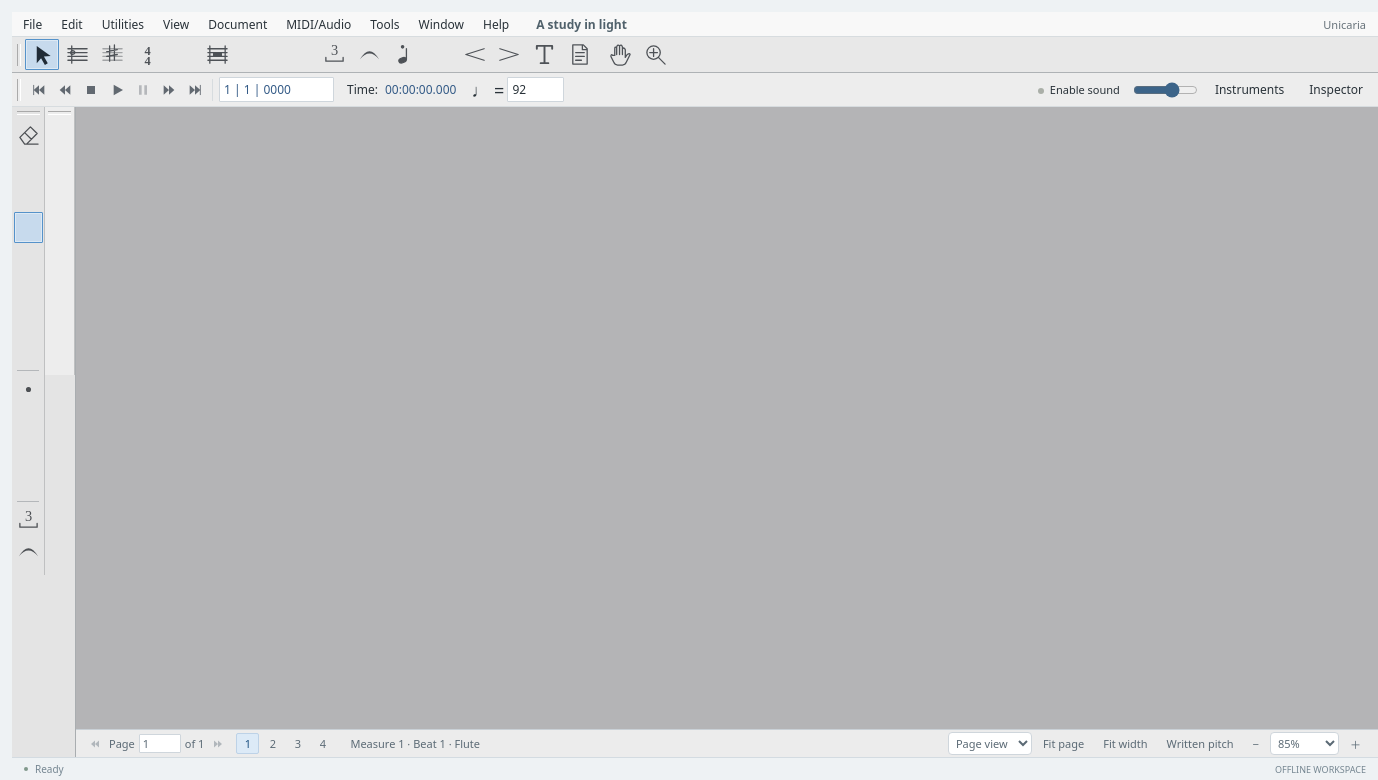
Test case: familiar score editing gestures › Speedy Entry chooses pitch before entering a duration
Click the button named "Speedy Entry".
click(293, 54)  # box [276,39,310,70]
(page scrolled)
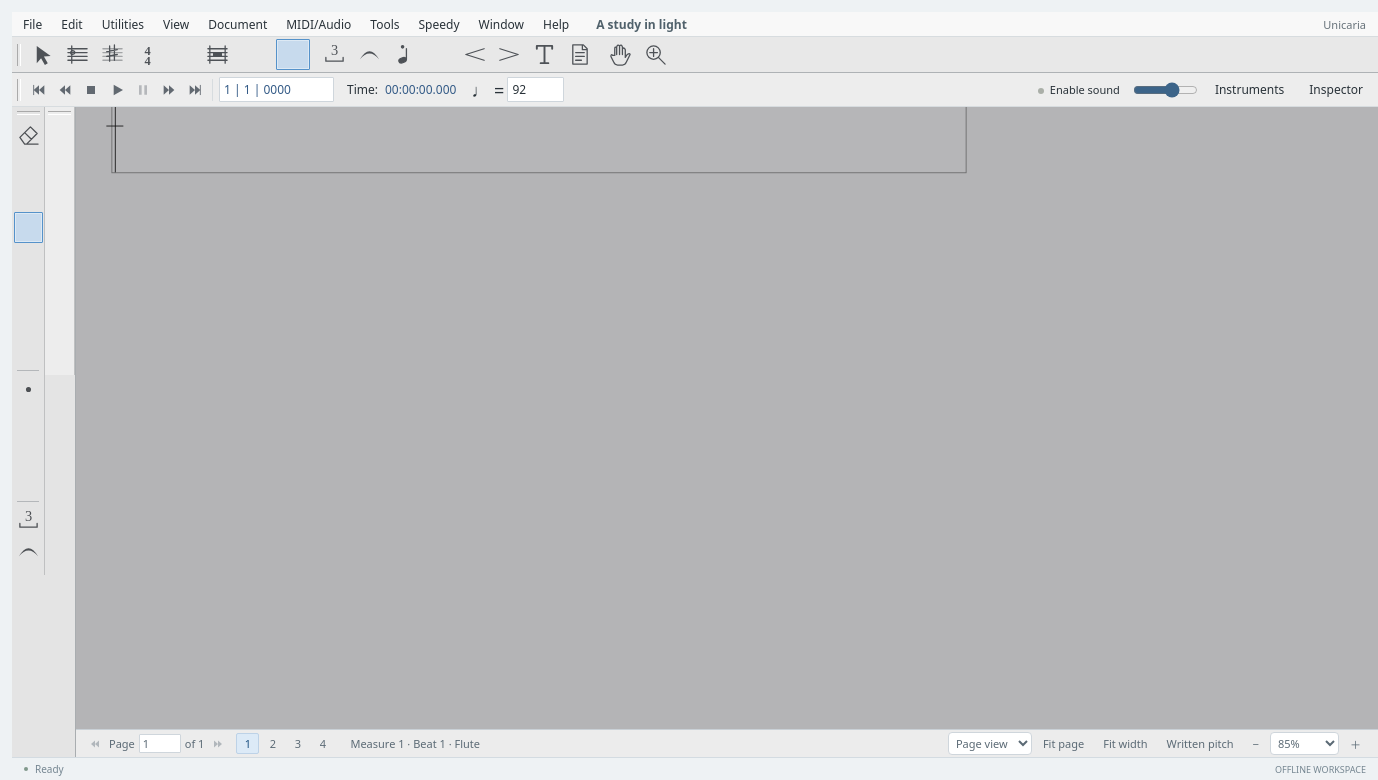
Press the mouse on the element showing "V1" at (539, 126), box [111,78,966,173]
Press ArrowUp
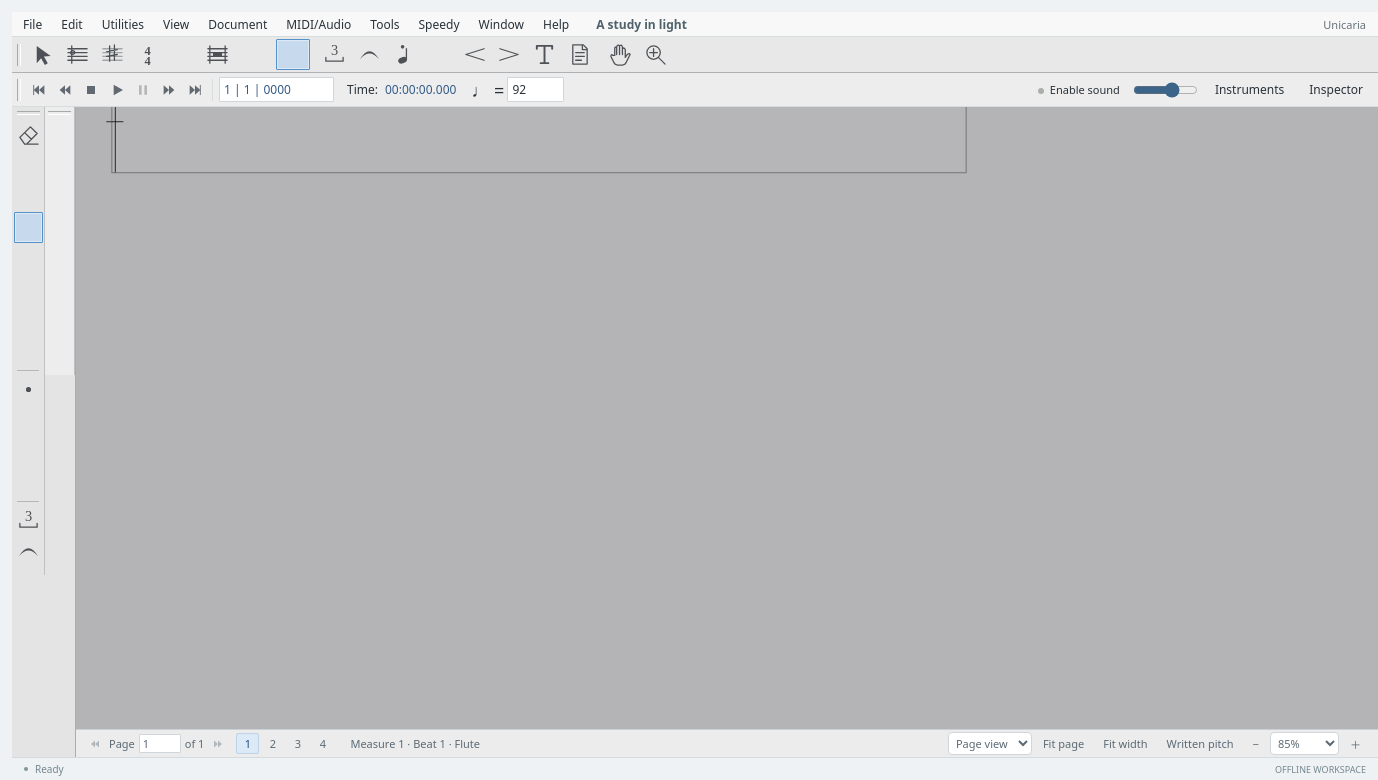
Press Digit5
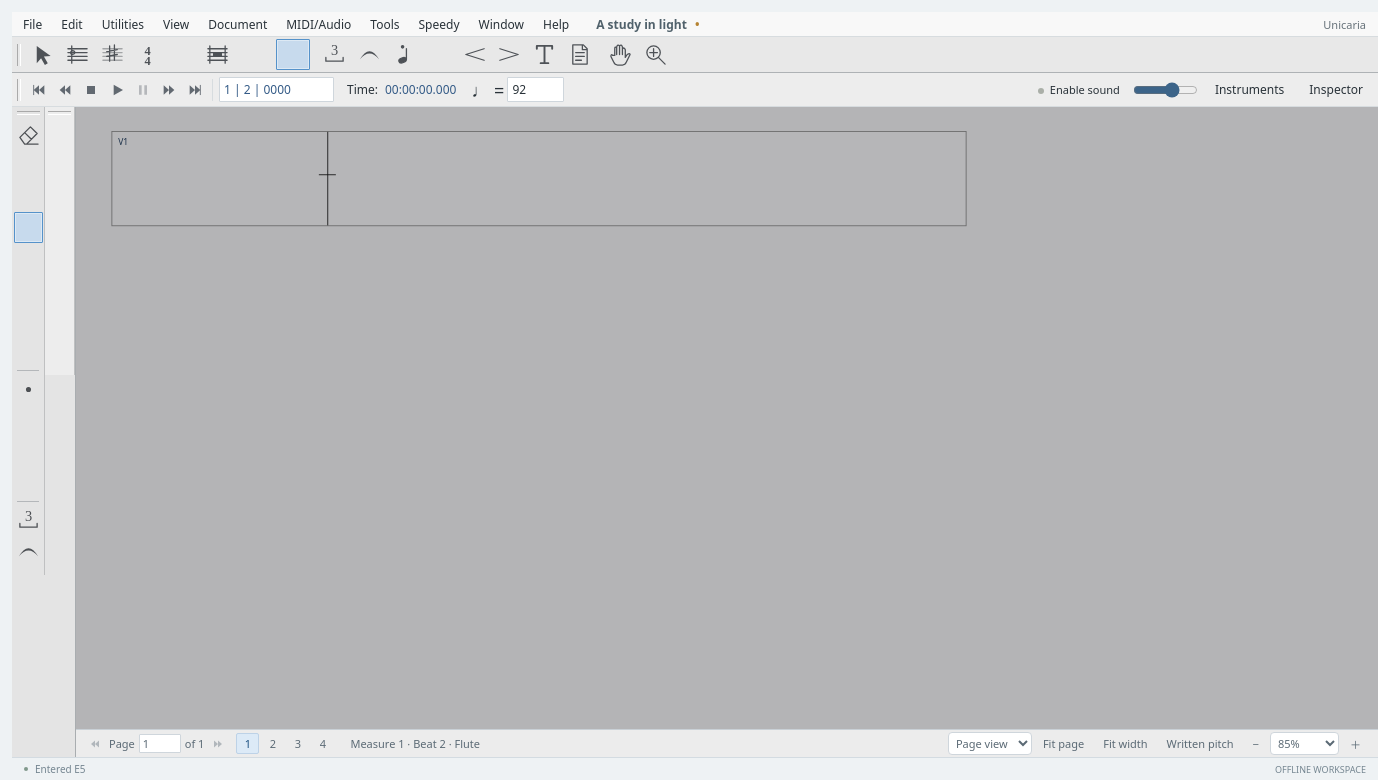
Expected: the element with class "speedy-frame" is shown, [111,131,966,226]
Expected: the text "Entered E5" is shown, [35,762,86,776]
